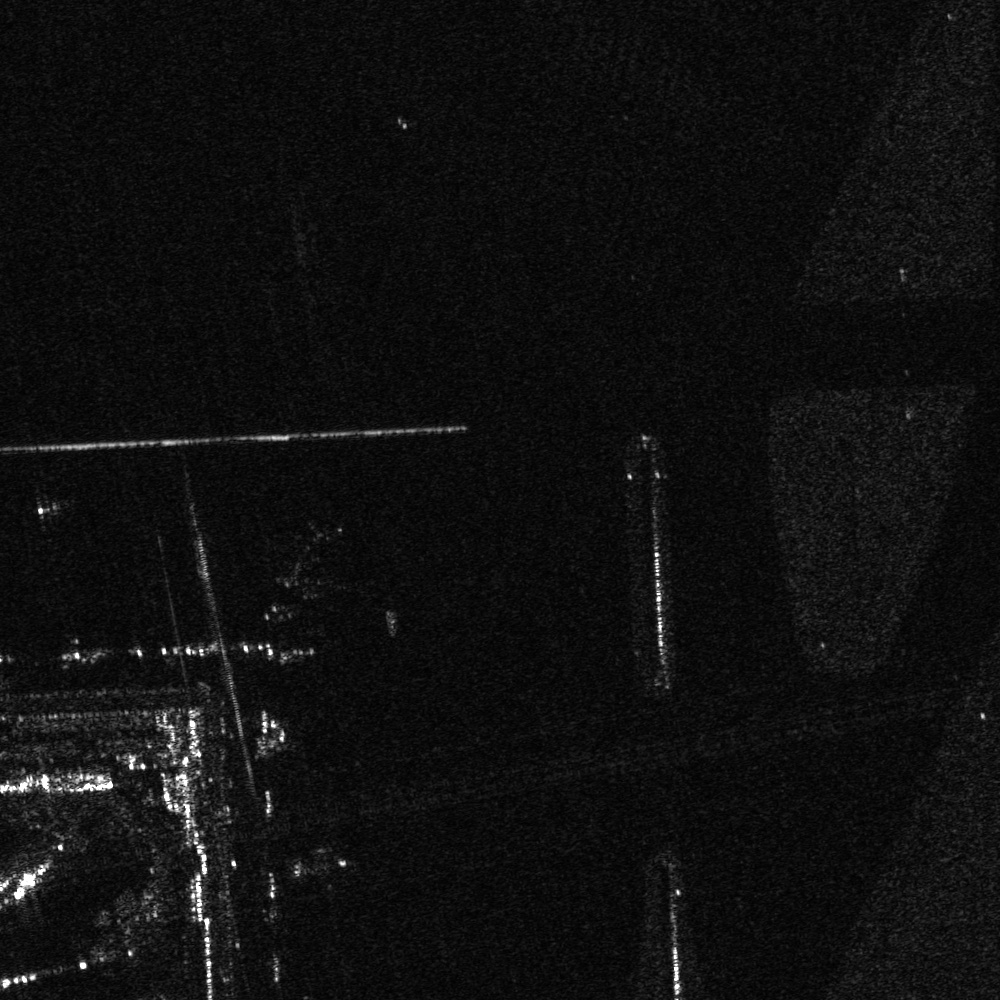A220: (279, 828, 357, 892)
